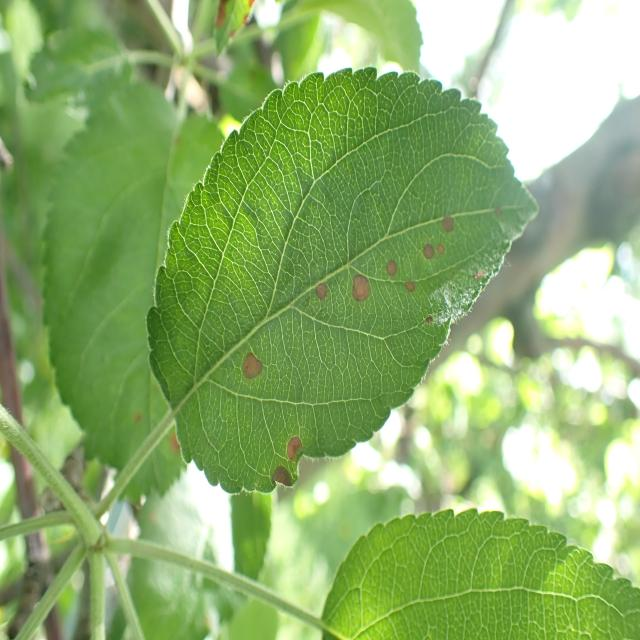Black Rot: (266, 452, 306, 510), (344, 260, 379, 324), (232, 326, 264, 390), (404, 208, 437, 270), (304, 266, 340, 313), (278, 422, 310, 461), (380, 240, 398, 291), (438, 214, 468, 238), (401, 276, 421, 304), (438, 233, 452, 266)
